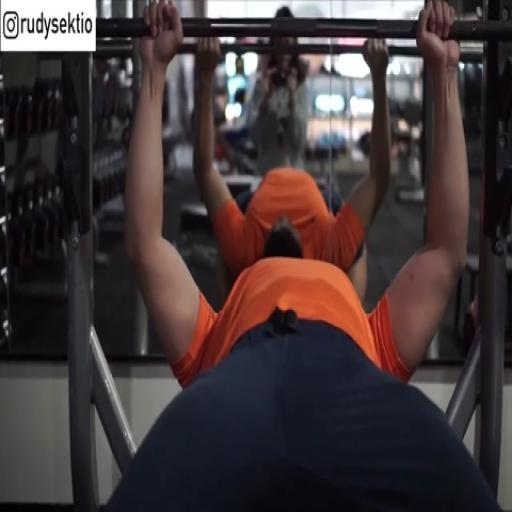exercise: (99, 0, 509, 511)
